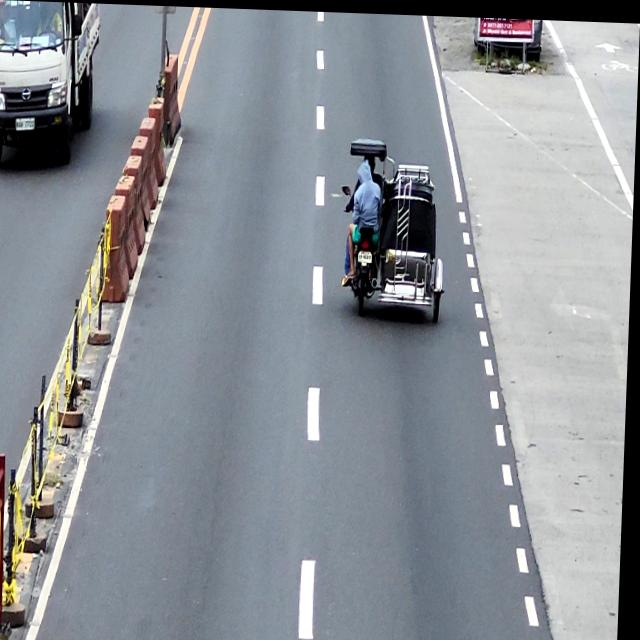License-Plate: (16, 118, 36, 131), (360, 248, 374, 261)
Tricycle: (340, 136, 451, 319)
Truck: (0, 1, 102, 167)
